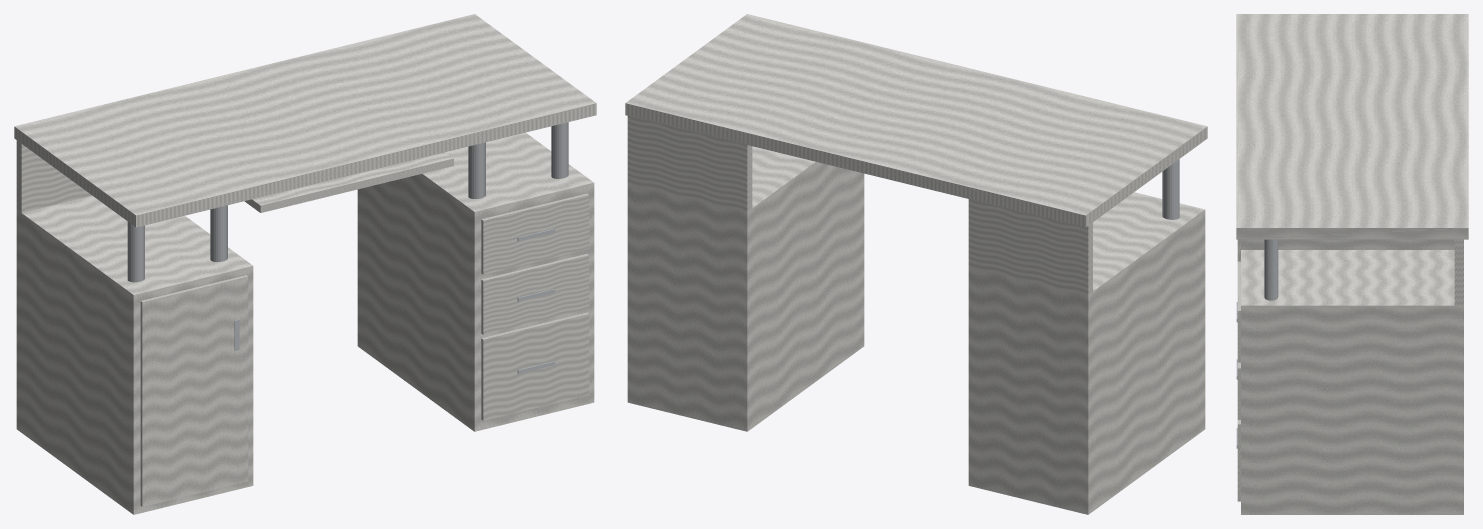
The picture shows the model from 3 angles, left to right: view 1: azimuth 30°, elevation 25°; view 2: azimuth 150°, elevation 25°; view 3: azimuth 270°, elevation 25°; orthographic projection. The views are drawn at different scales.
Parts seen in each view (by area): view 1: 1 desktop, 3 left_cabinet, 6 right_cabinet, 4 left_cabinet_door, 9 bottom_drawer_front, 7 top_drawer_front, 8 middle_drawer_front, 2 keyboard_tray, 13 left_shelf_back_panel, 15 left_outer_support_pole, 16 left_inner_support_pole, 18 right_outer_support_pole (+1 smaller); view 2: 1 desktop, 3 left_cabinet, 6 right_cabinet, 14 right_shelf_back_panel, 13 left_shelf_back_panel, 15 left_outer_support_pole; view 3: 6 right_cabinet, 1 desktop, 3 left_cabinet, 18 right_outer_support_pole, 14 right_shelf_back_panel, 7 top_drawer_front, 9 bottom_drawer_front.
Boxes of the visible parts, x1=… form: 1 desktop: x1=14, y1=14, x2=596, y2=227; 3 left_cabinet: x1=16, y1=196, x2=253, y2=514; 6 right_cabinet: x1=357, y1=132, x2=594, y2=431; 4 left_cabinet_door: x1=140, y1=275, x2=248, y2=506; 9 bottom_drawer_front: x1=481, y1=312, x2=589, y2=420; 7 top_drawer_front: x1=481, y1=193, x2=589, y2=274; 8 middle_drawer_front: x1=481, y1=253, x2=589, y2=334; 2 keyboard_tray: x1=244, y1=152, x2=453, y2=212; 13 left_shelf_back_panel: x1=16, y1=140, x2=92, y2=212; 15 left_outer_support_pole: x1=127, y1=222, x2=144, y2=282; 16 left_inner_support_pole: x1=210, y1=205, x2=227, y2=261; 18 right_outer_support_pole: x1=551, y1=122, x2=568, y2=178; 1 desktop: x1=625, y1=14, x2=1207, y2=227; 3 left_cabinet: x1=968, y1=192, x2=1205, y2=514; 6 right_cabinet: x1=627, y1=146, x2=864, y2=431; 14 right_shelf_back_panel: x1=627, y1=116, x2=752, y2=211; 13 left_shelf_back_panel: x1=968, y1=199, x2=1092, y2=294; 15 left_outer_support_pole: x1=1162, y1=159, x2=1179, y2=219; 6 right_cabinet: x1=1241, y1=250, x2=1463, y2=514; 1 desktop: x1=1236, y1=14, x2=1468, y2=239; 3 left_cabinet: x1=1241, y1=239, x2=1454, y2=249; 18 right_outer_support_pole: x1=1264, y1=239, x2=1278, y2=300; 14 right_shelf_back_panel: x1=1454, y1=239, x2=1463, y2=305; 7 top_drawer_front: x1=1237, y1=261, x2=1240, y2=362; 9 bottom_drawer_front: x1=1237, y1=420, x2=1240, y2=501.
Bounding box in the file's own units: 1.6 × 1 × 0.7333.
Materials: 3 (1 with a texture image).
